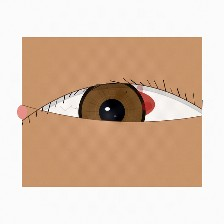hemorrhage_spot: (69, 65, 169, 144)
